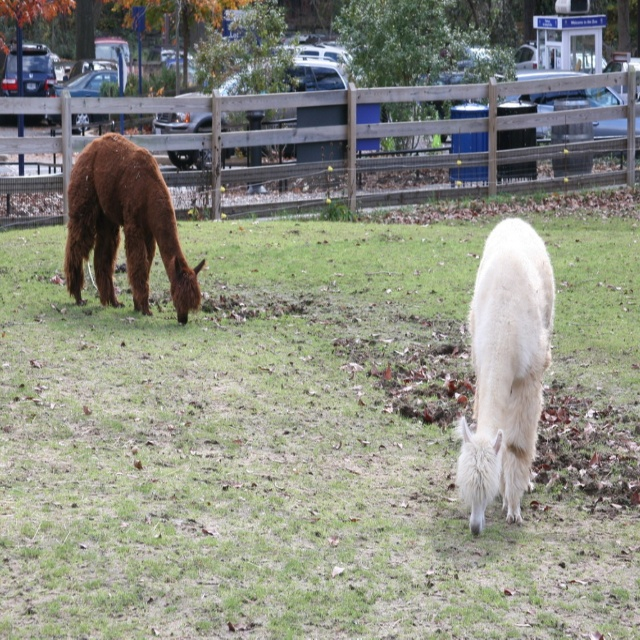Horse: (454, 215, 553, 537), (63, 131, 209, 326)
